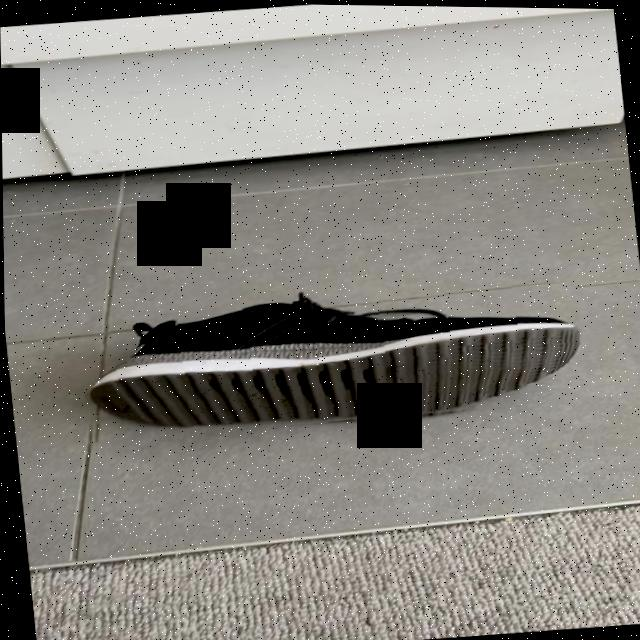shoe: (72, 273, 587, 448)
